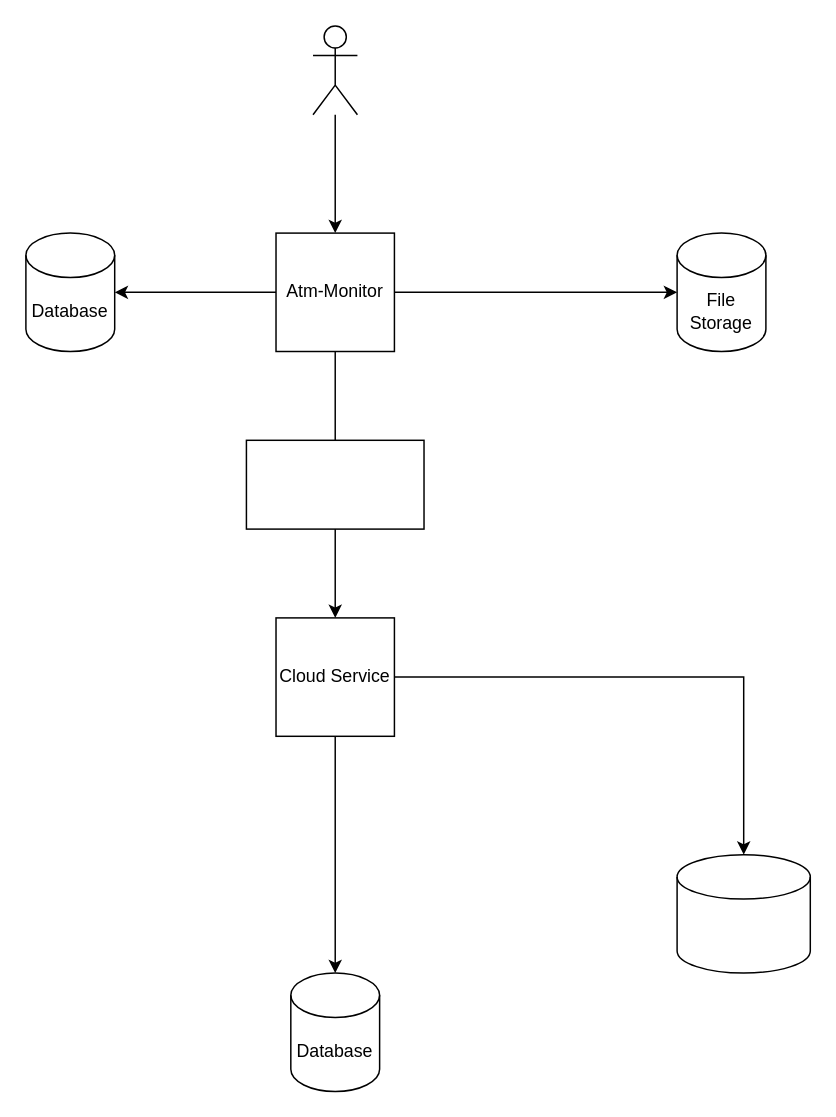
This 836x1117 diagram has some shape labels left out. Here are the shapes that lost their labels. From the top down, the centre of each, then its label:
At pixel 334 69: "Actor".
At pixel 334 484: "Load Balancer".
At pixel 743 913: "Blob Storage".
